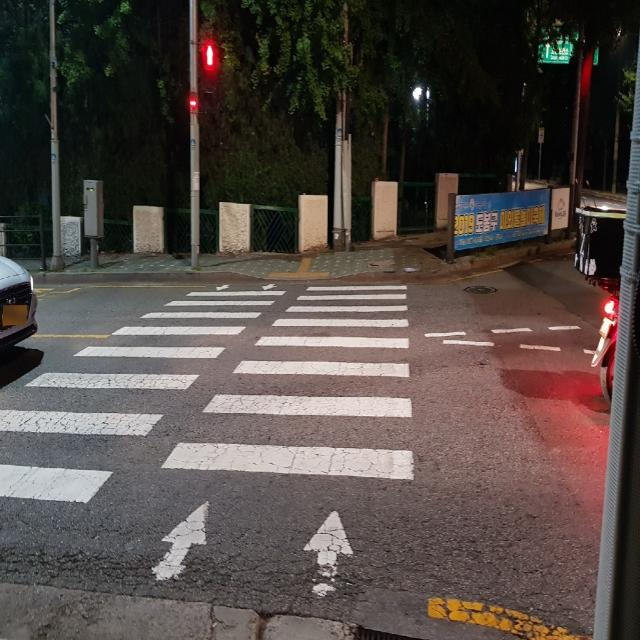빨간불: (201, 42, 220, 112)
횡단보도: (0, 283, 416, 599)
